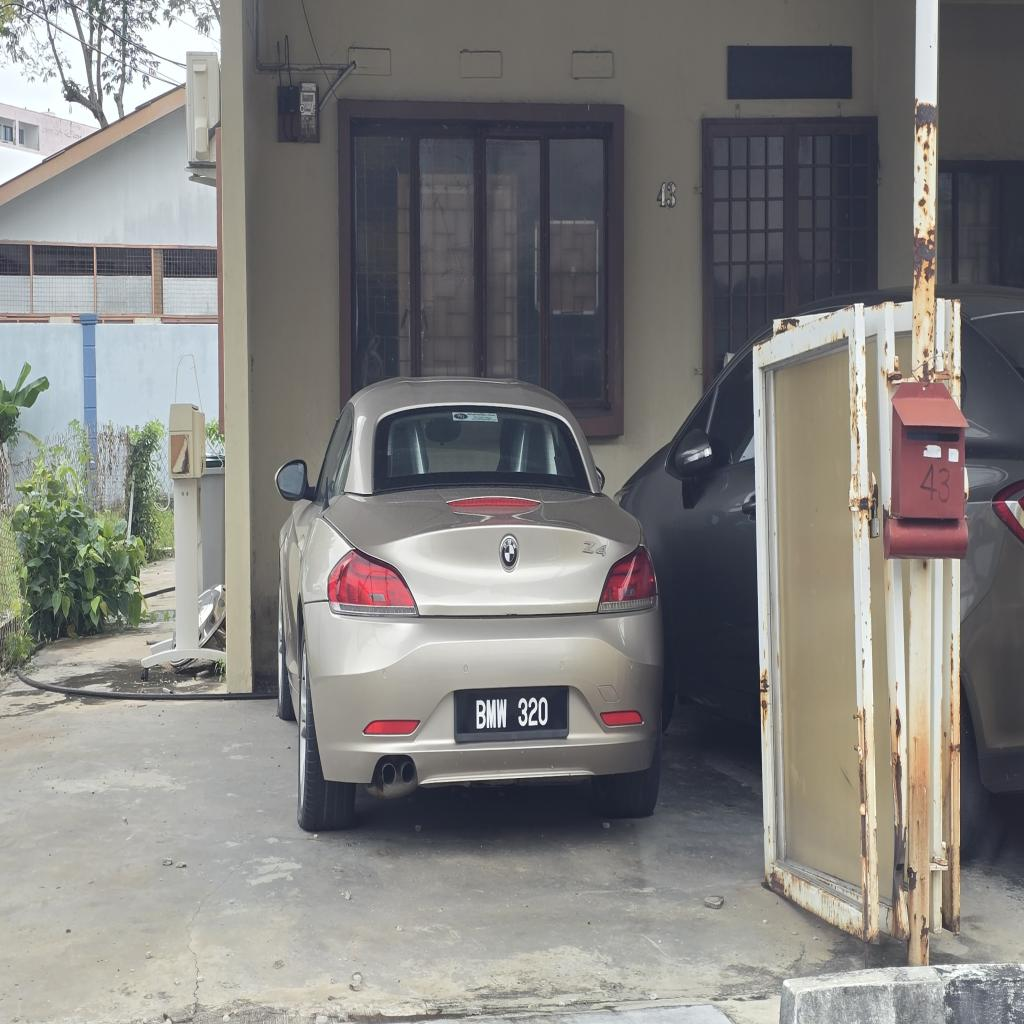car: (277, 379, 662, 830)
car plate: (455, 687, 567, 742)
